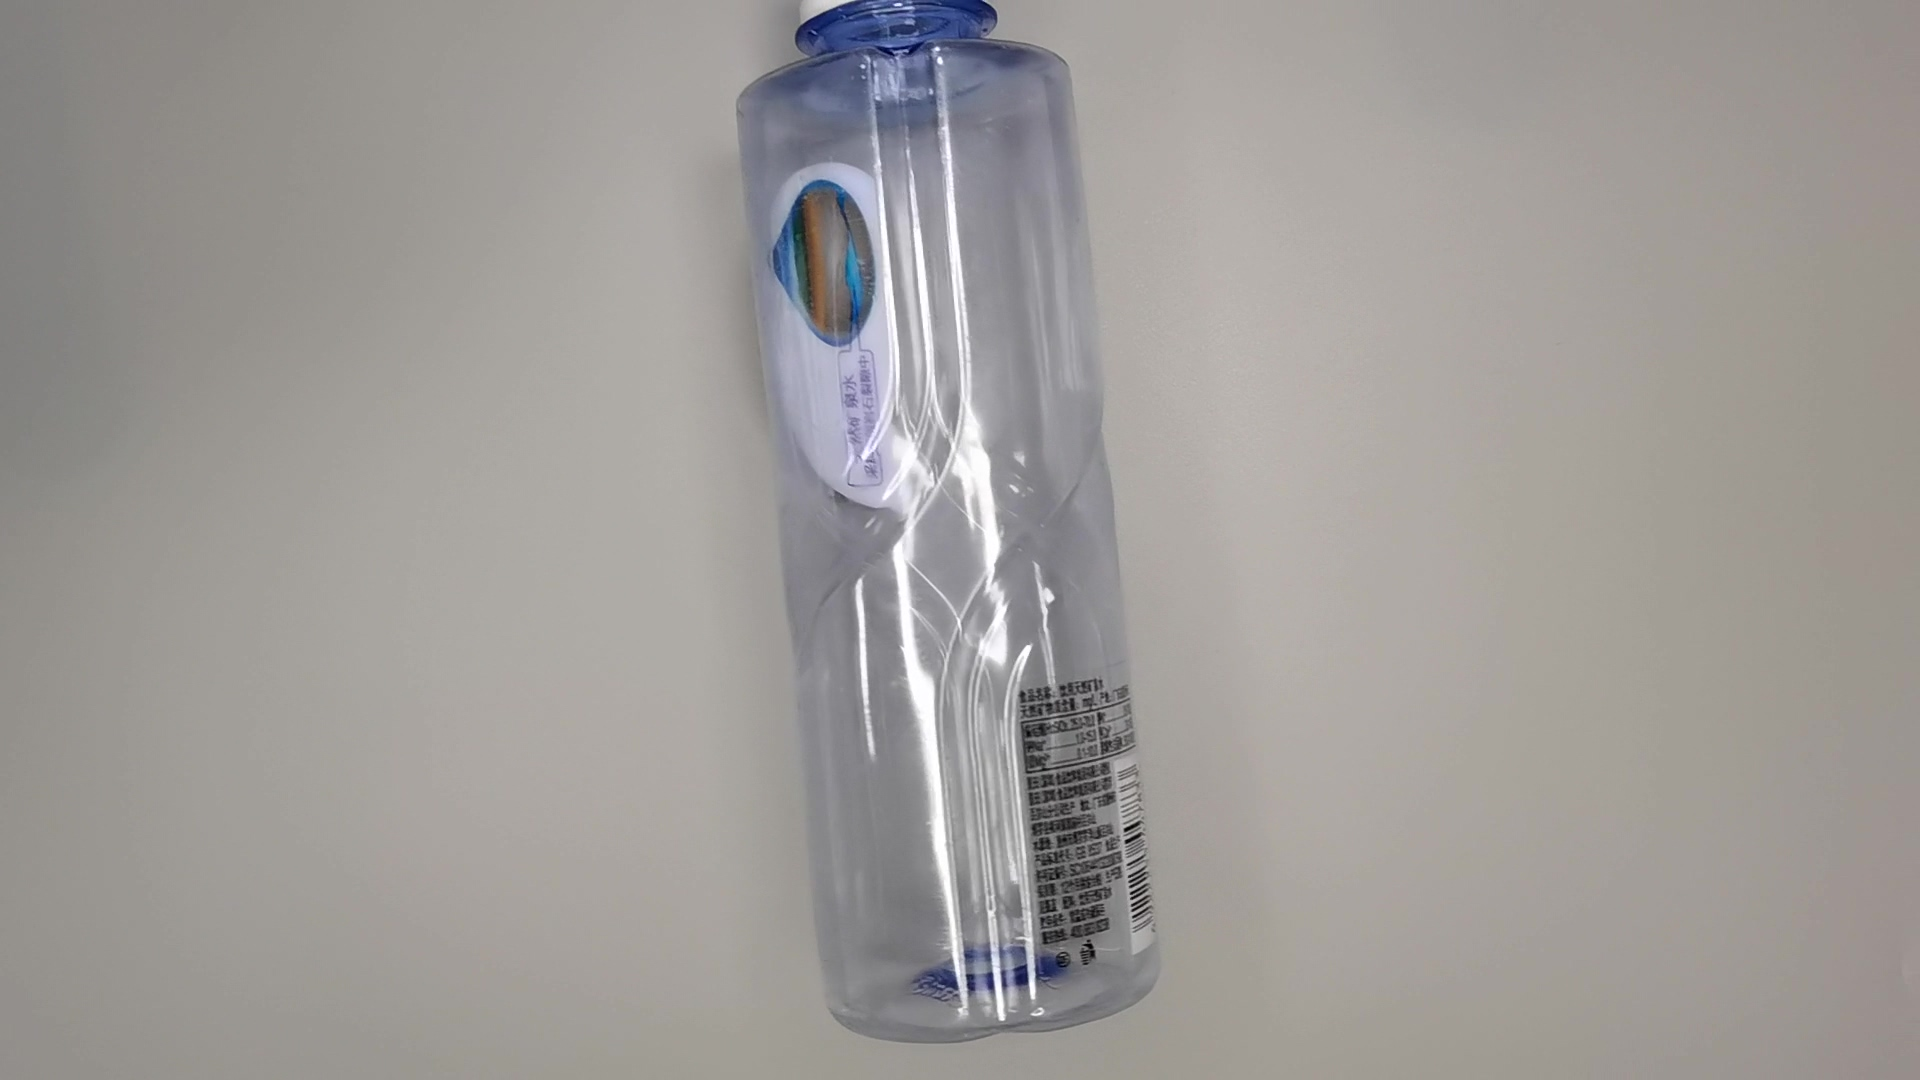bottle: (741, 1, 1168, 1052)
